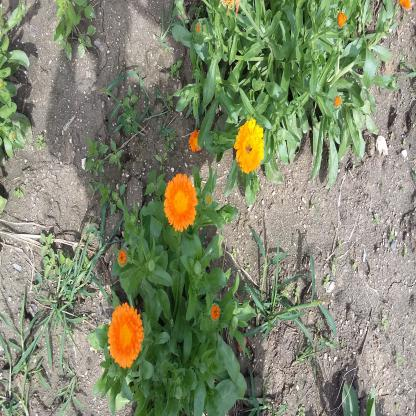marigold: (107, 301, 144, 369), (164, 172, 198, 232), (233, 116, 264, 176), (188, 125, 205, 153)
